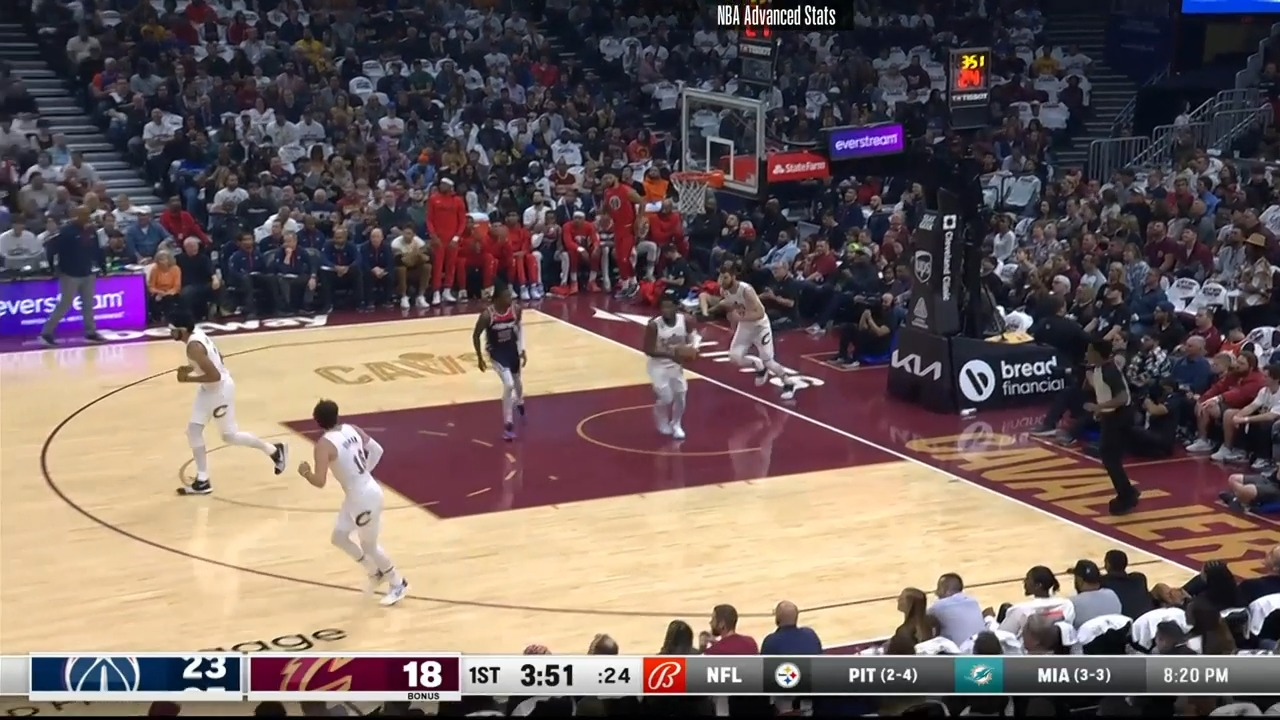net: (667, 166, 726, 218)
player: (282, 399, 408, 612), (171, 315, 292, 498), (694, 263, 804, 402), (464, 287, 530, 449), (643, 297, 708, 449)
referee: (1081, 338, 1147, 521)
